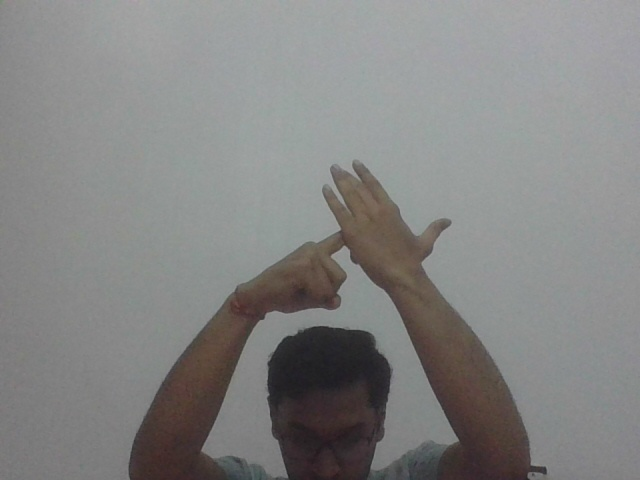R: (250, 157, 457, 318)
